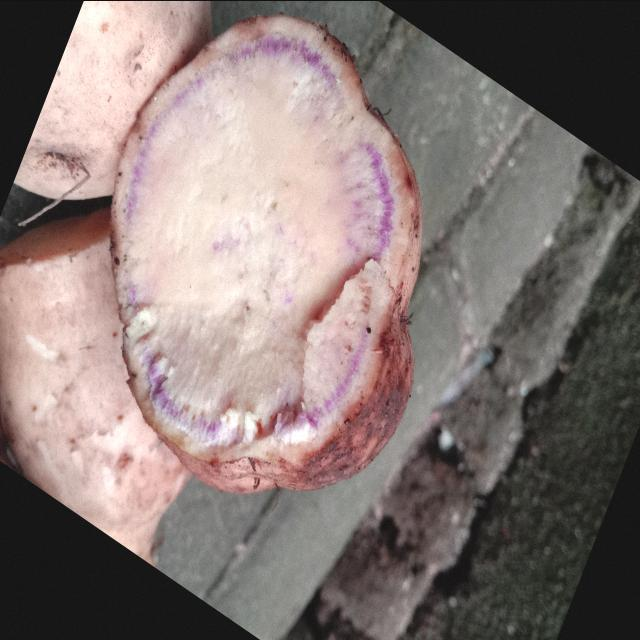Healthy Sweet Potato: (111, 13, 421, 492)
